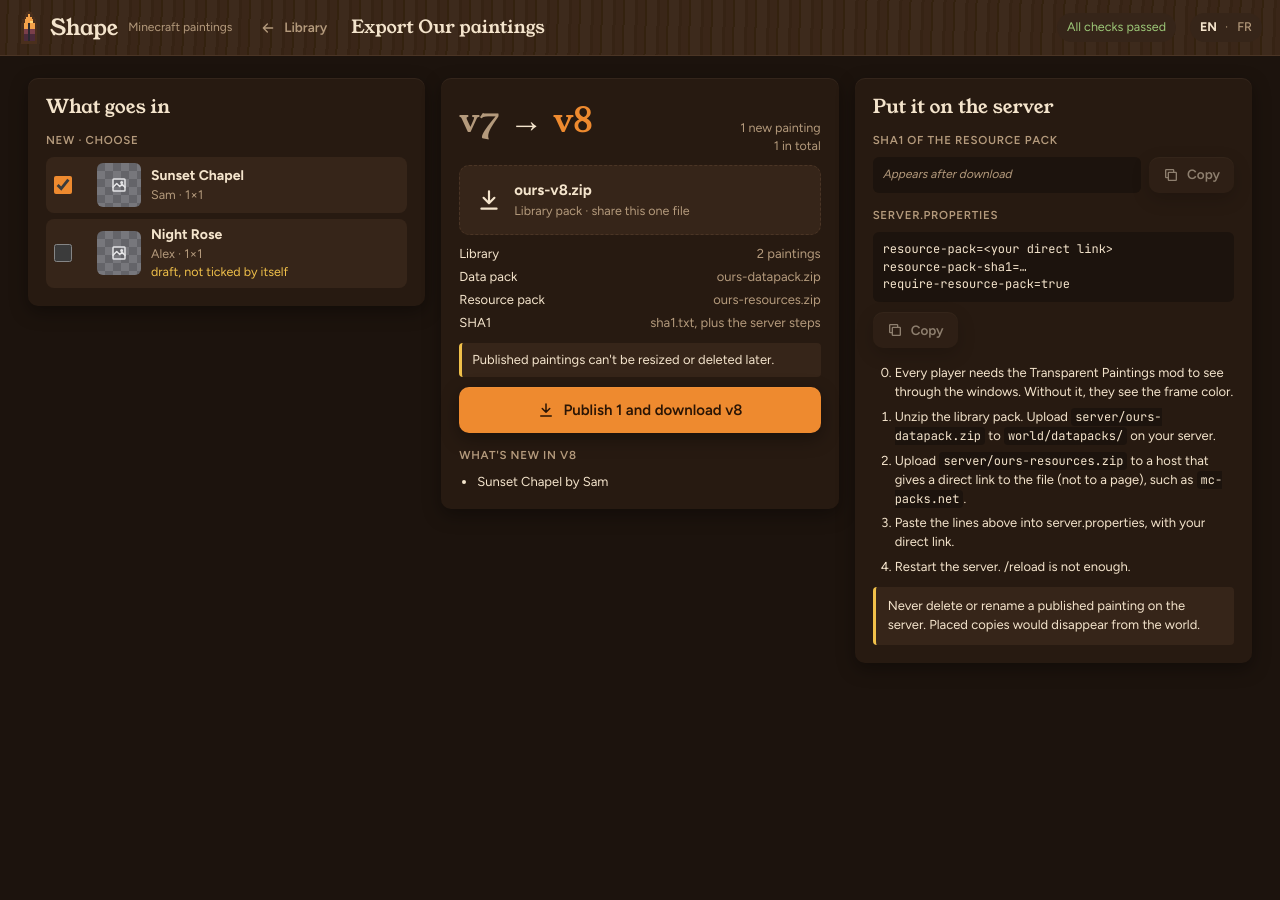
Scenario: ExportScreen › says on the button what it publishes, and that it is for good (C5)
expect the button "Publish 1 and download v8" is shown: met, box [459,387,821,433]
expect the text "Published paintings can't be resized or deleted later." is shown: met, box [459,342,821,377]
Click the checkbox labelled "Night Rose" at (63, 253), box [54,244,72,262]
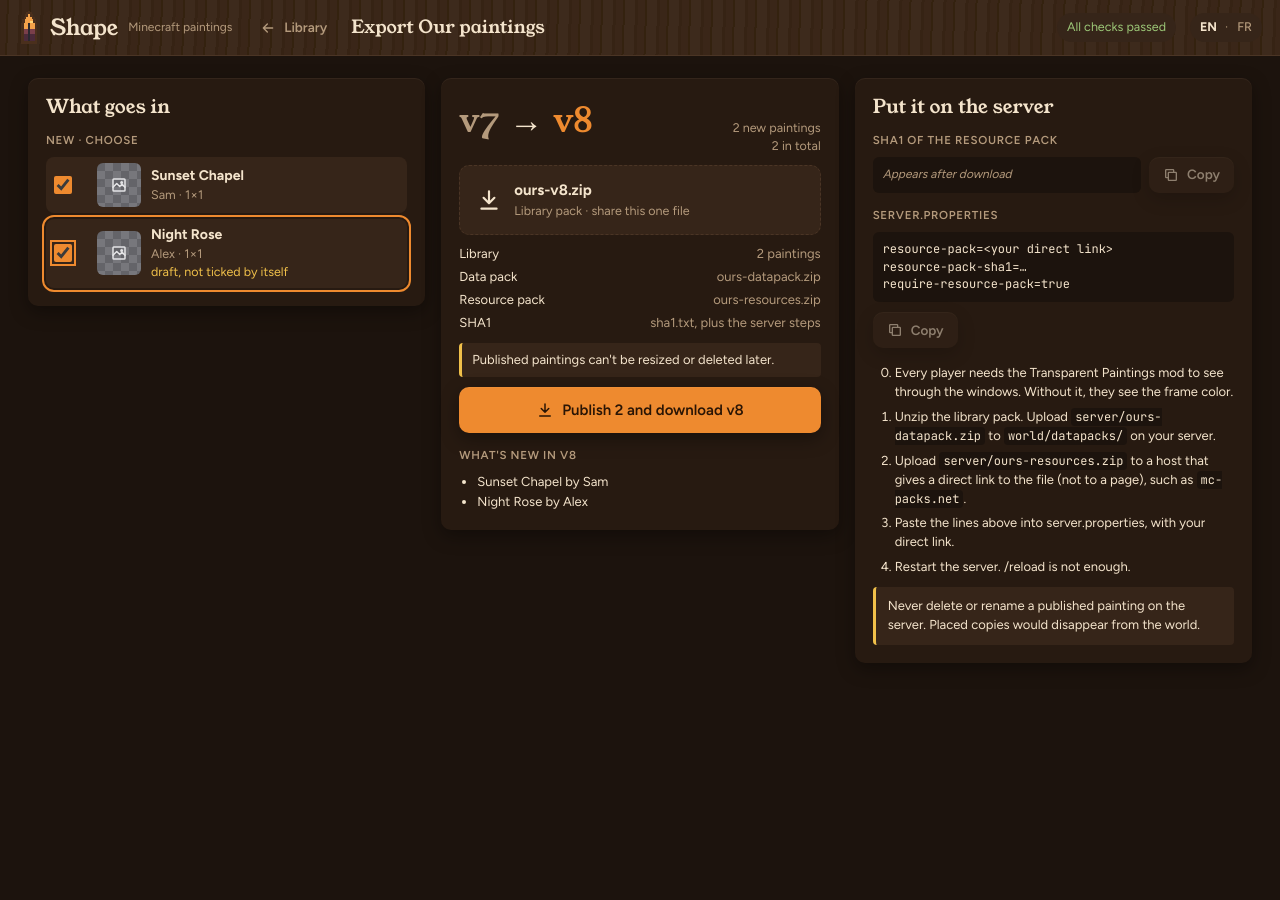
expect the button "Publish 2 and download v8" is shown: met, box [459,387,821,433]
